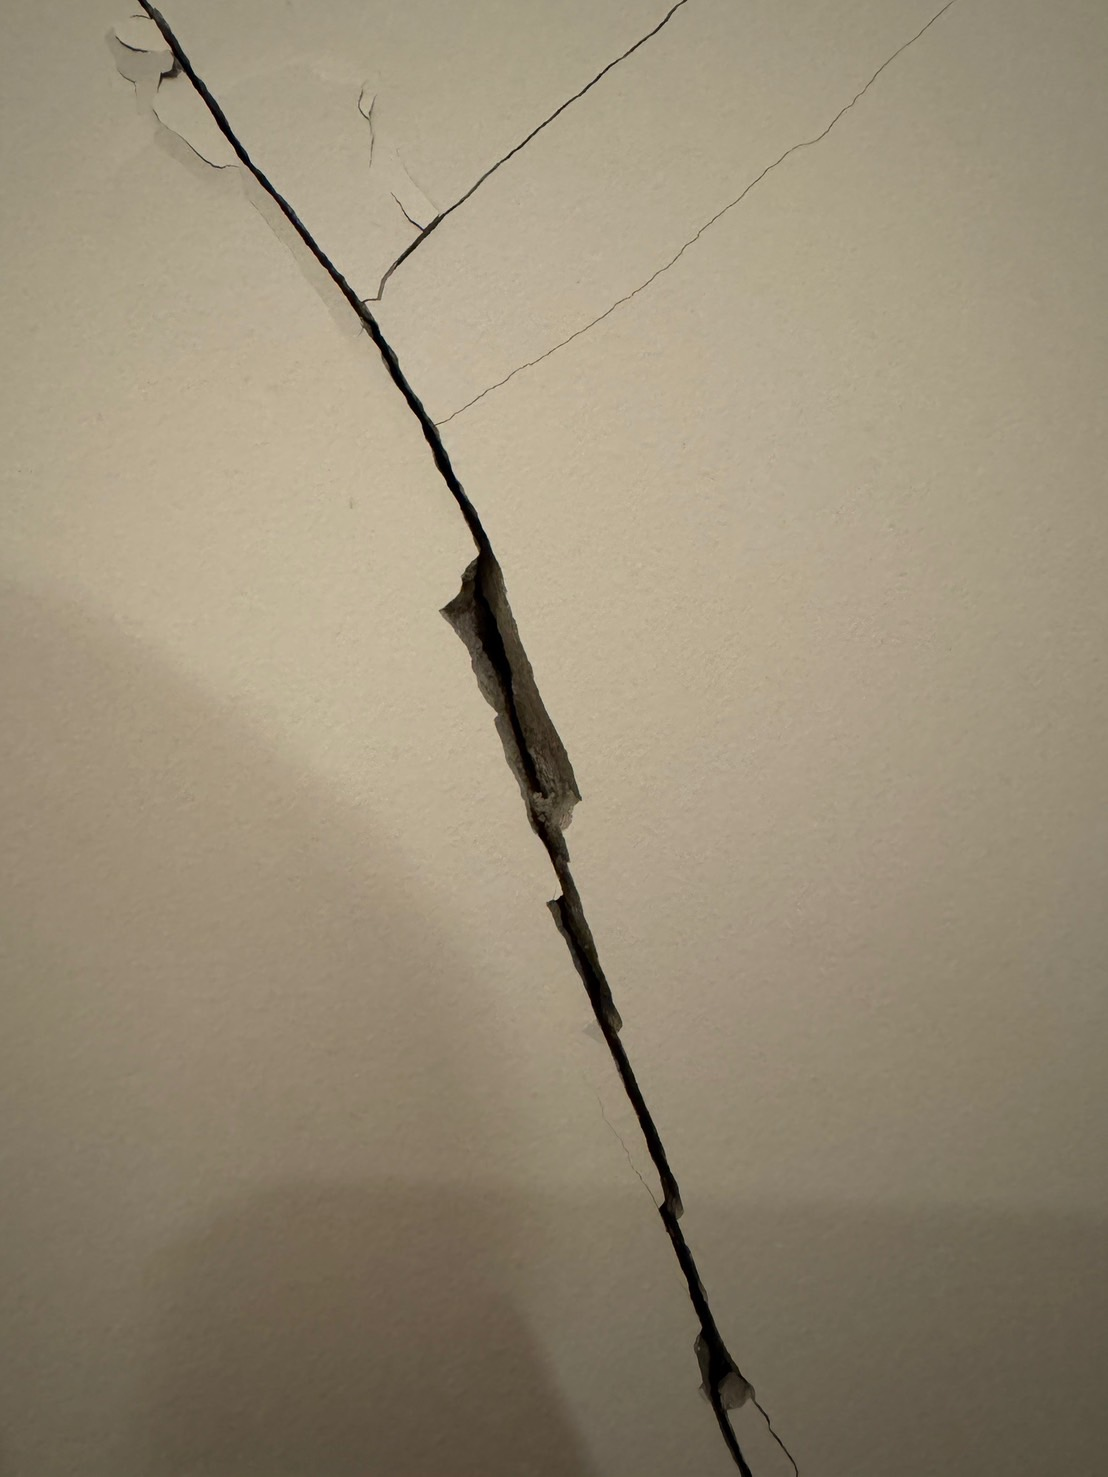Medium: (187, 111, 796, 1327)
